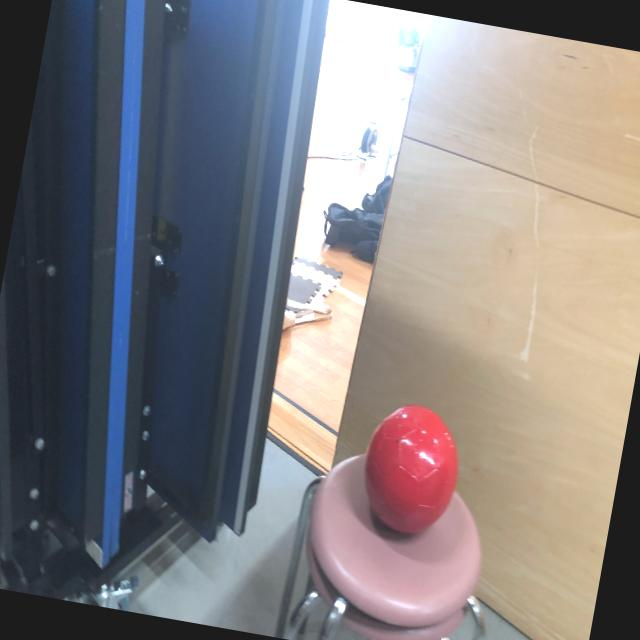red_ball: (352, 396, 468, 542)
